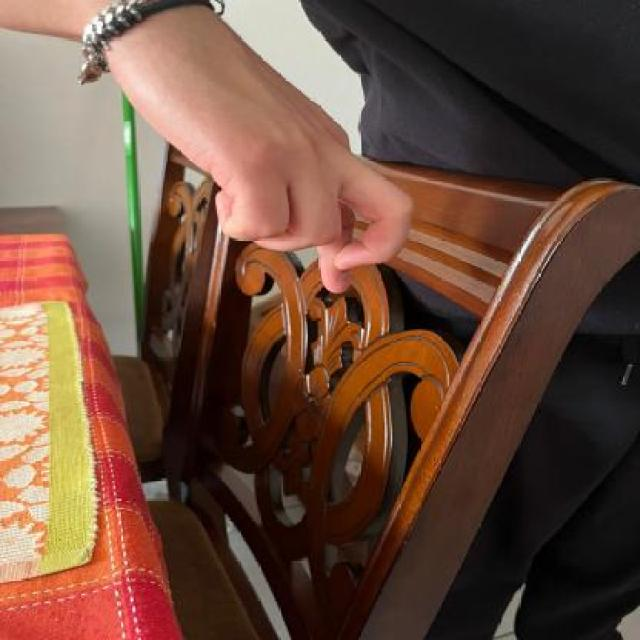P: (98, 11, 416, 295)
